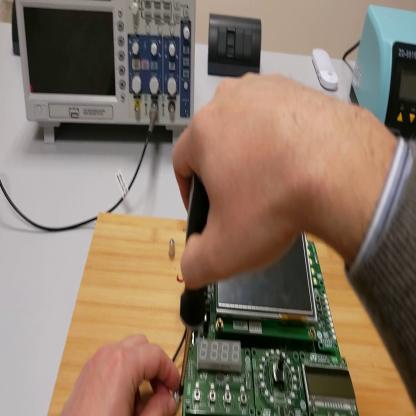hand: (173, 71, 315, 288), (62, 331, 181, 415)
low voltage board: (185, 229, 359, 412)
oscilloscope: (16, 1, 198, 151)
screwdriver-: (180, 179, 212, 398)
socket: (13, 2, 23, 56)
welder station: (348, 7, 416, 139)
working area: (50, 216, 416, 416)
